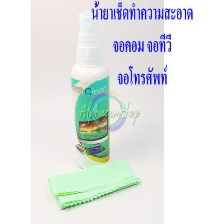cleaning_solution: (66, 9, 113, 172)
